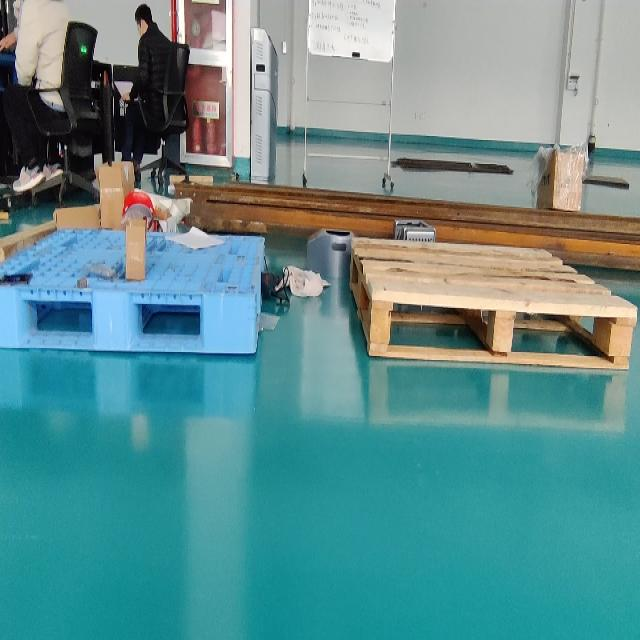euro: (350, 237, 636, 369)
